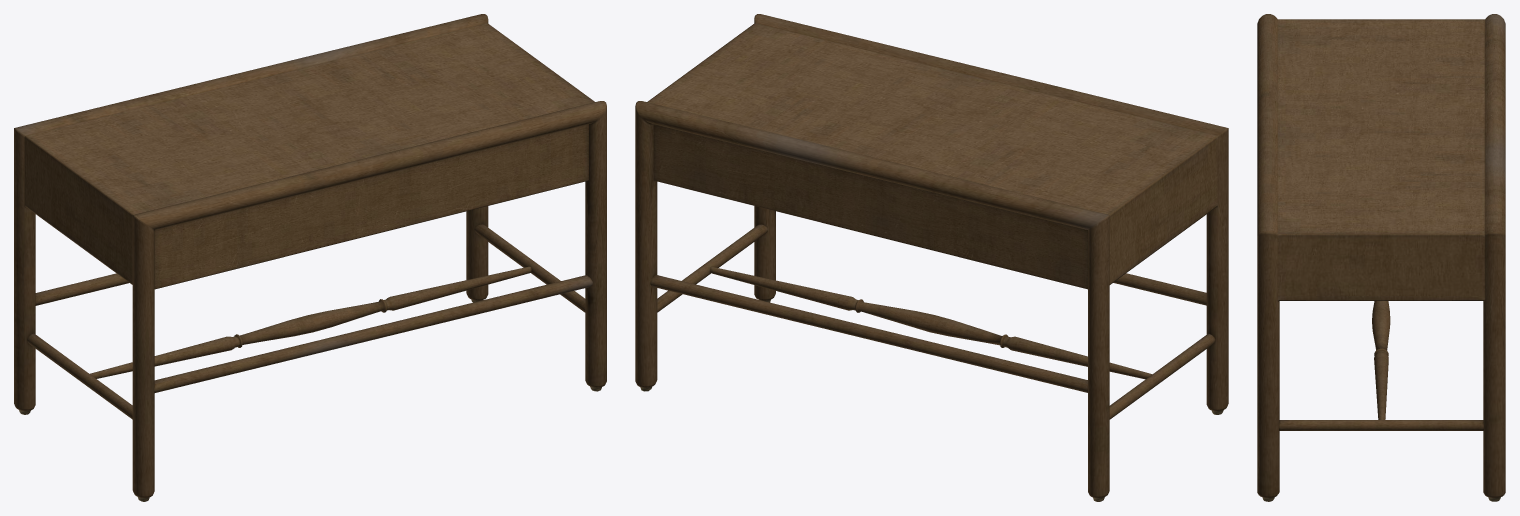
Rendered from small_wooden_table_01_lod1.glb.
3 renders of one model, left to right at view 1: azimuth 30°, elevation 25°; view 2: azimuth 150°, elevation 25°; view 3: azimuth 270°, elevation 25°, orthographic. The views are drawn at different scales.
Visible parts, largest first — view 1: small_wooden_table_01; view 2: small_wooden_table_01; view 3: small_wooden_table_01.
Part boxes in pixels (x1,y1,x2,y2): small_wooden_table_01: (14,14,606,501); small_wooden_table_01: (635,14,1228,501); small_wooden_table_01: (1257,14,1505,501).
Size of the model in its own units: 0.9162 by 0.5331 by 0.44.
Materials: 1 (1 with a texture image).
